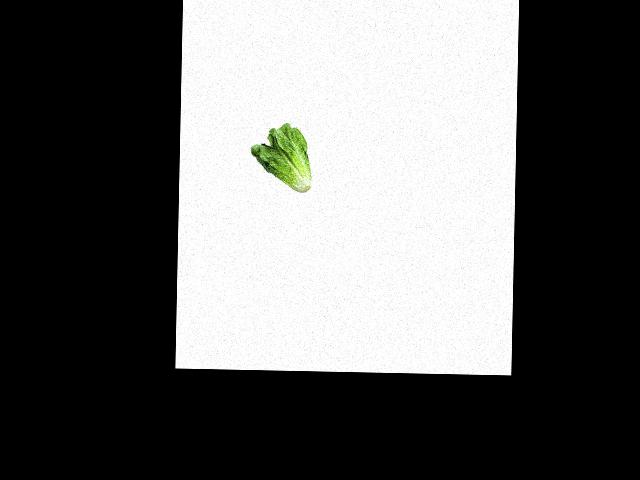lettuce: (246, 122, 316, 190)
